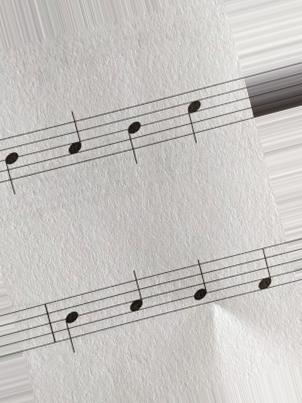A: (62, 107, 89, 168), (122, 265, 146, 331)
B: (1, 138, 27, 200), (123, 107, 149, 168), (61, 294, 83, 360)
F: (254, 244, 275, 299)
G: (189, 255, 211, 316)
HC: (184, 84, 205, 148)
